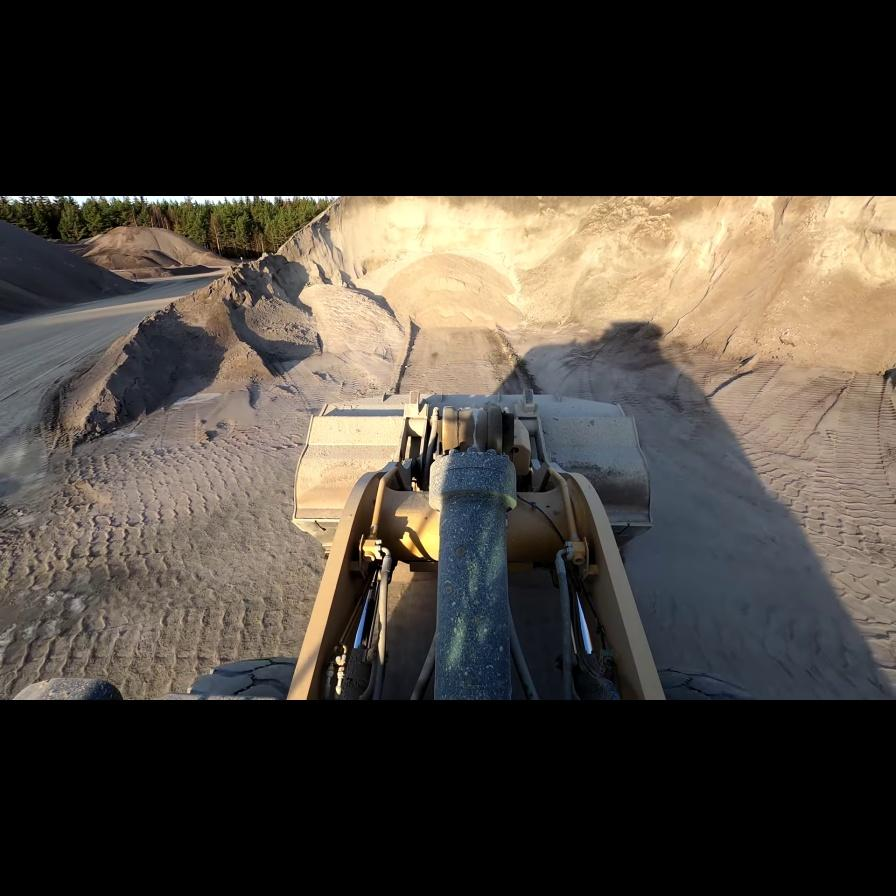pile of gravel: (36, 193, 896, 430), (0, 217, 247, 315)
